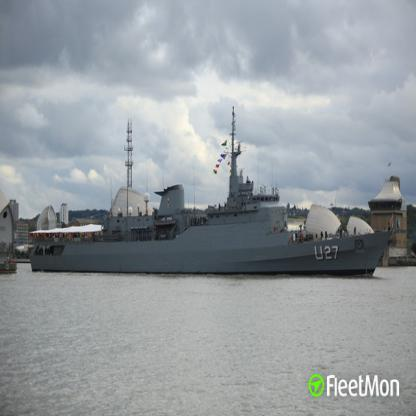Military Ship: (30, 106, 392, 275)
